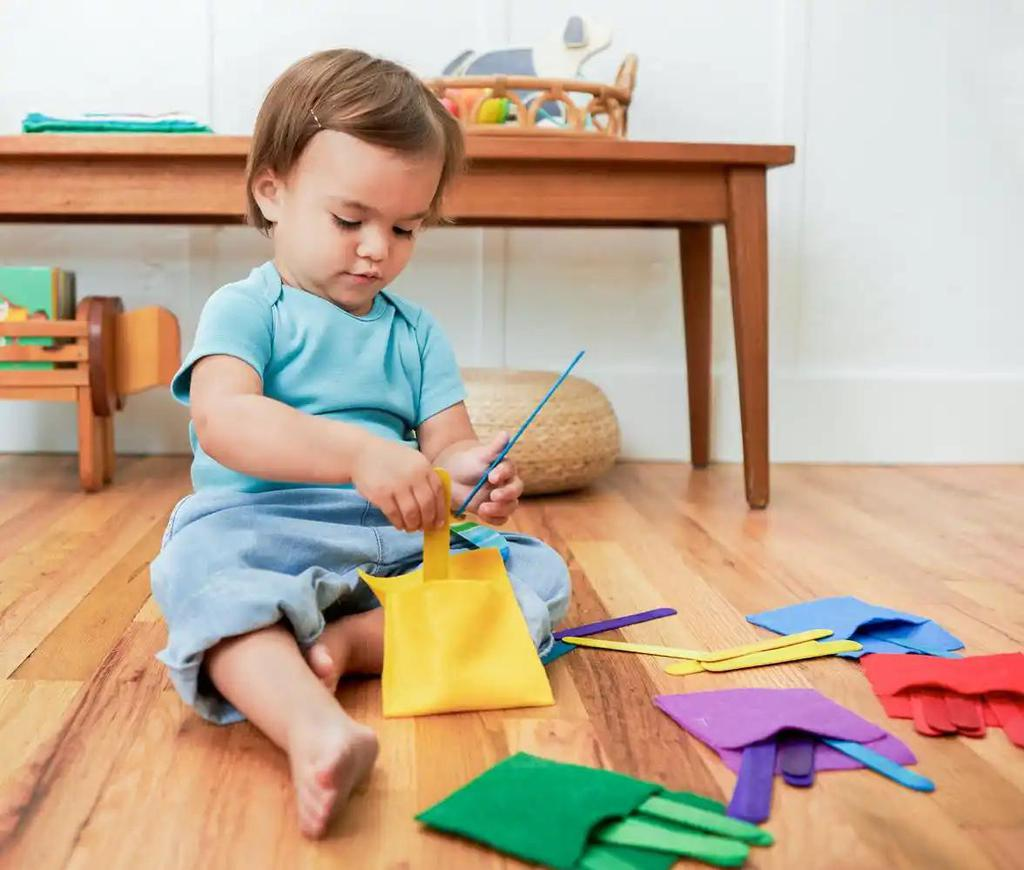child: (123, 44, 604, 827)
